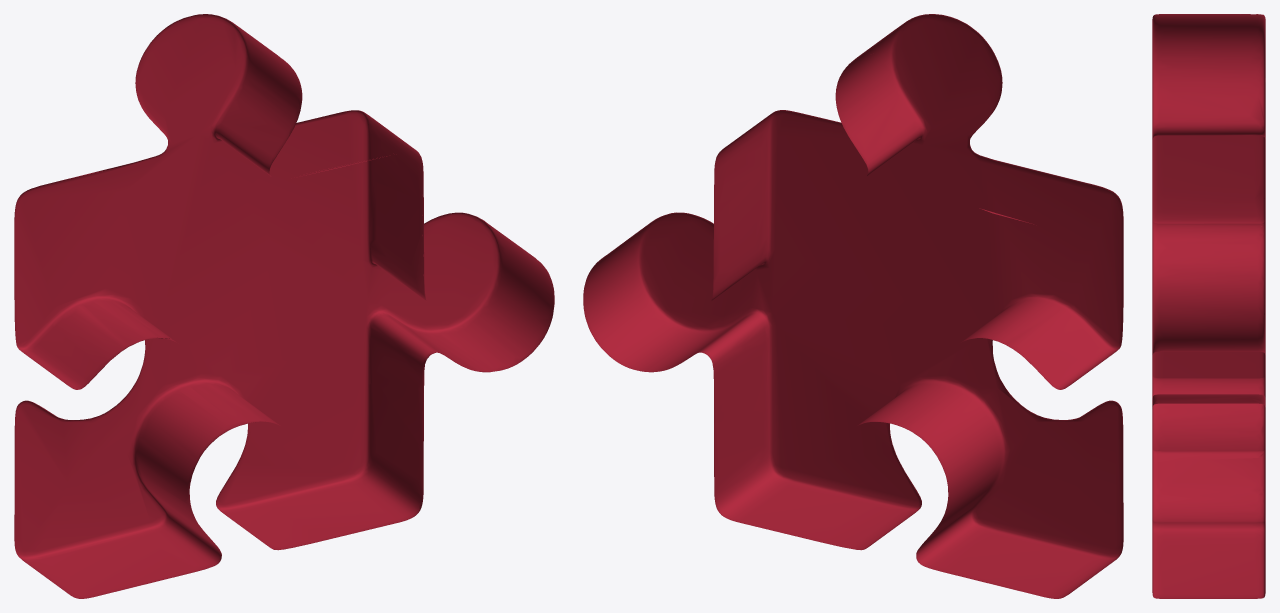
File: puzzle.glb
3 views of the same model, side by side, from view 1: azimuth 30°, elevation 25°; view 2: azimuth 150°, elevation 25°; view 3: azimuth 270°, elevation 25° (orthographic).
Visible parts, largest first — view 1: Puzzle; view 2: Puzzle; view 3: Puzzle.
Boxes of the visible parts, bbox=[...] form: Puzzle: bbox=[14, 14, 554, 598]; Puzzle: bbox=[583, 14, 1123, 598]; Puzzle: bbox=[1152, 14, 1265, 598].
Size of the model in its own units: 1.88 by 1.87 by 0.3853.
